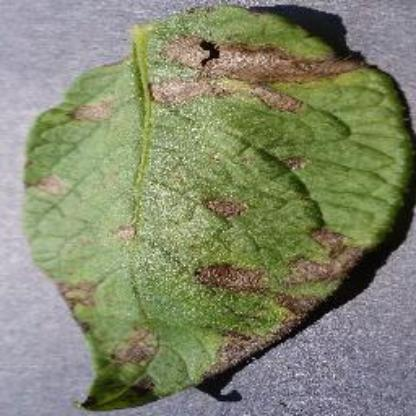Early-Blight: (17, 5, 416, 409)
